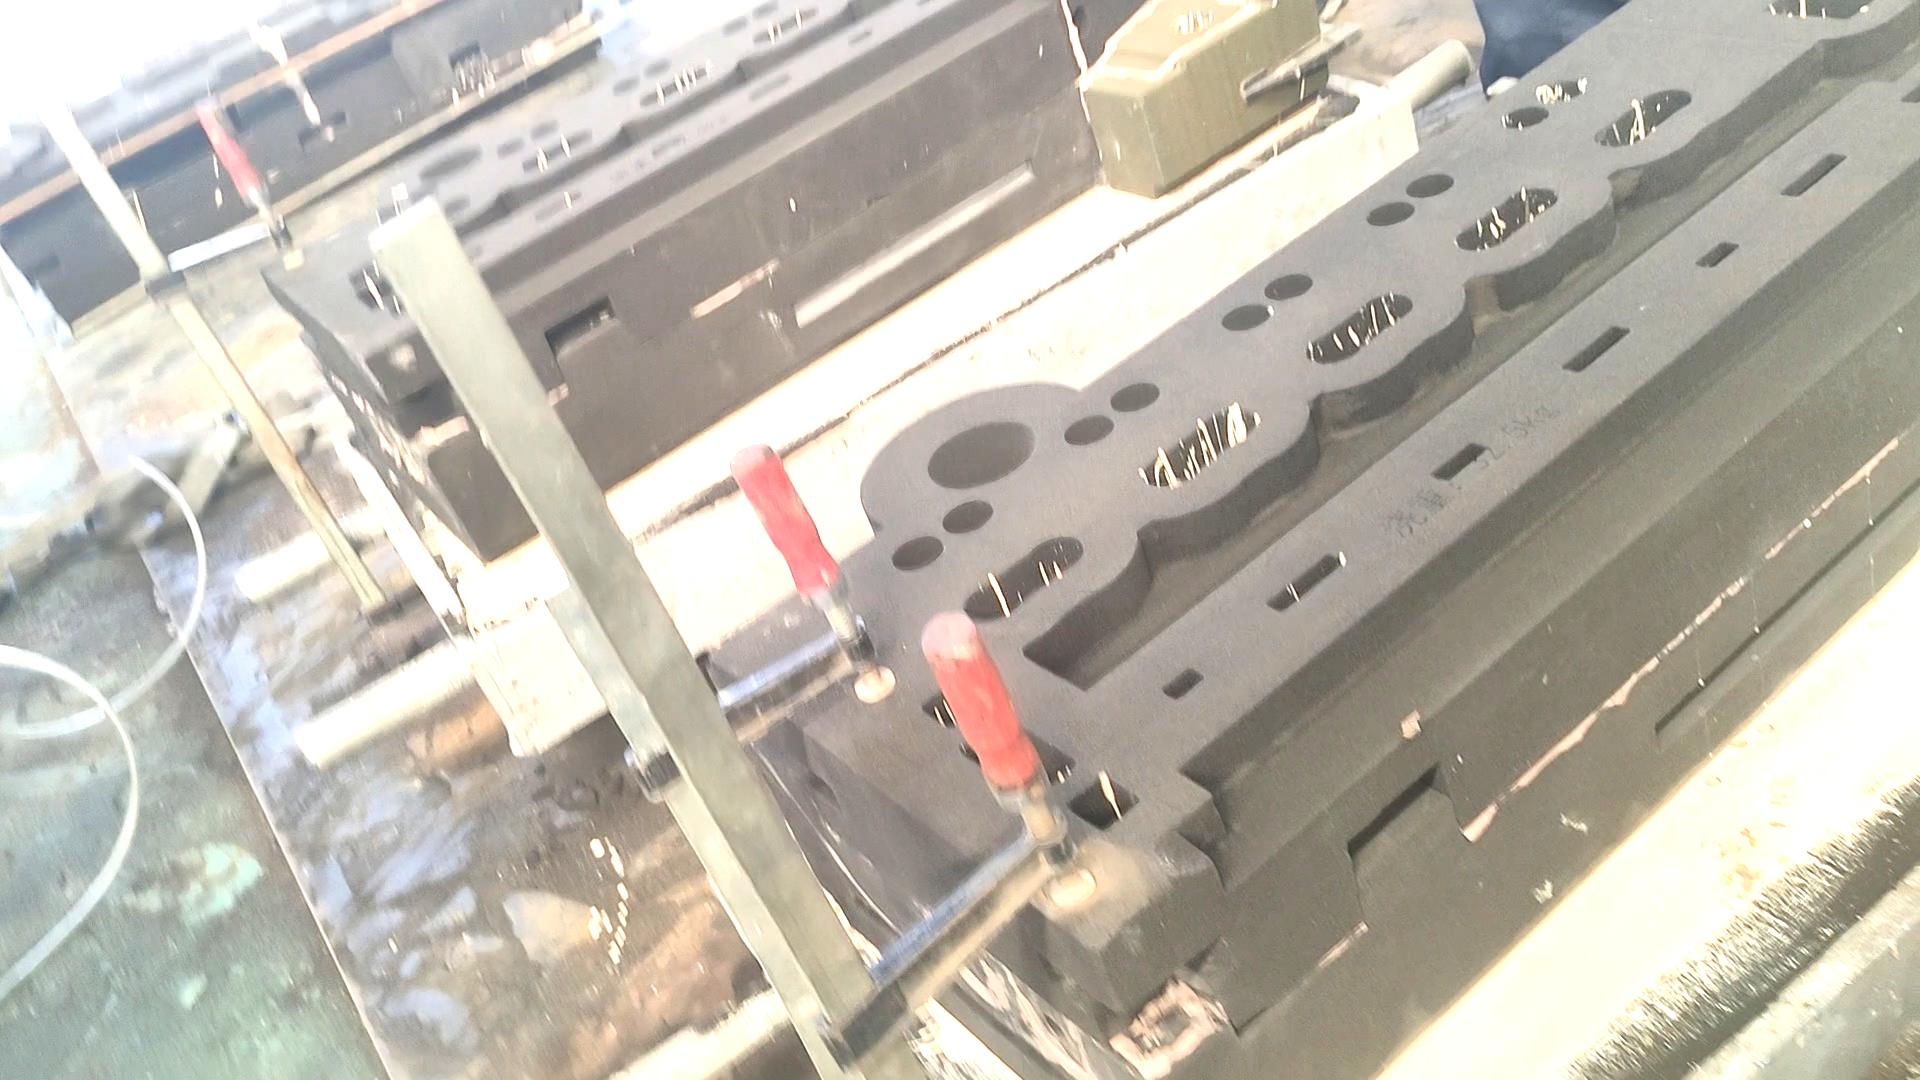pouring hole: (928, 419, 1036, 488), (414, 145, 481, 179)
